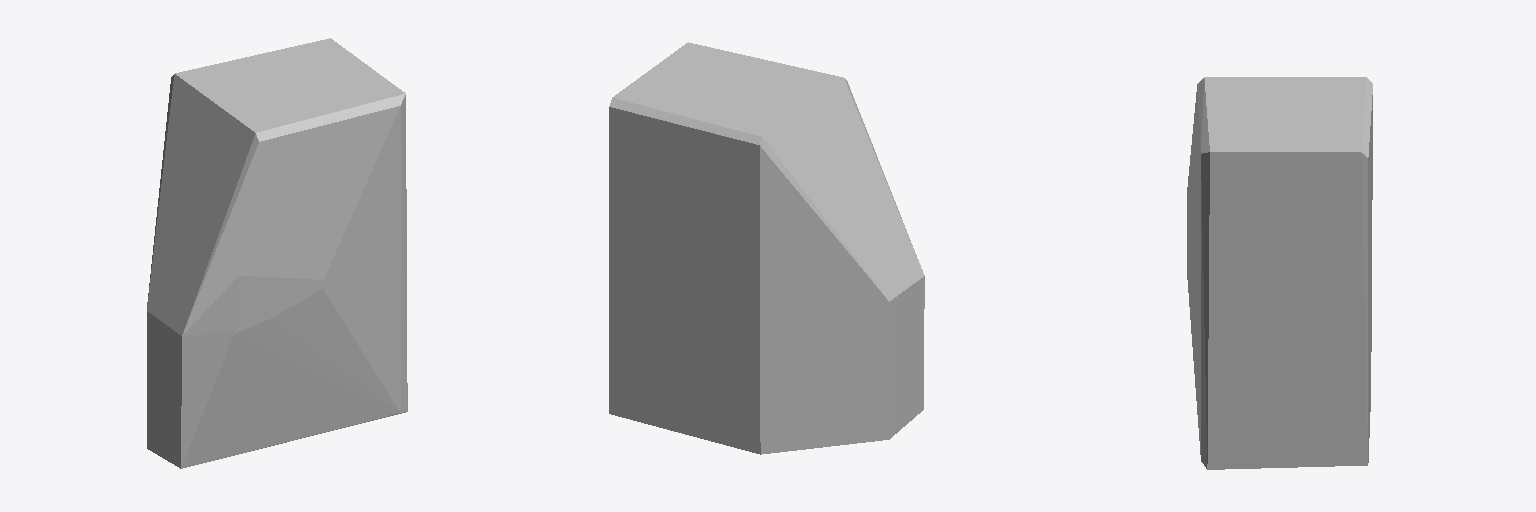
Rendered from solo_12_base_collision_11.obj.
3 views of the same model, side by side, from view 1: azimuth 30°, elevation 25°; view 2: azimuth 150°, elevation 25°; view 3: azimuth 270°, elevation 25° (orthographic).
Size of the model in its own units: 0.0755 by 0.1 by 0.0528.